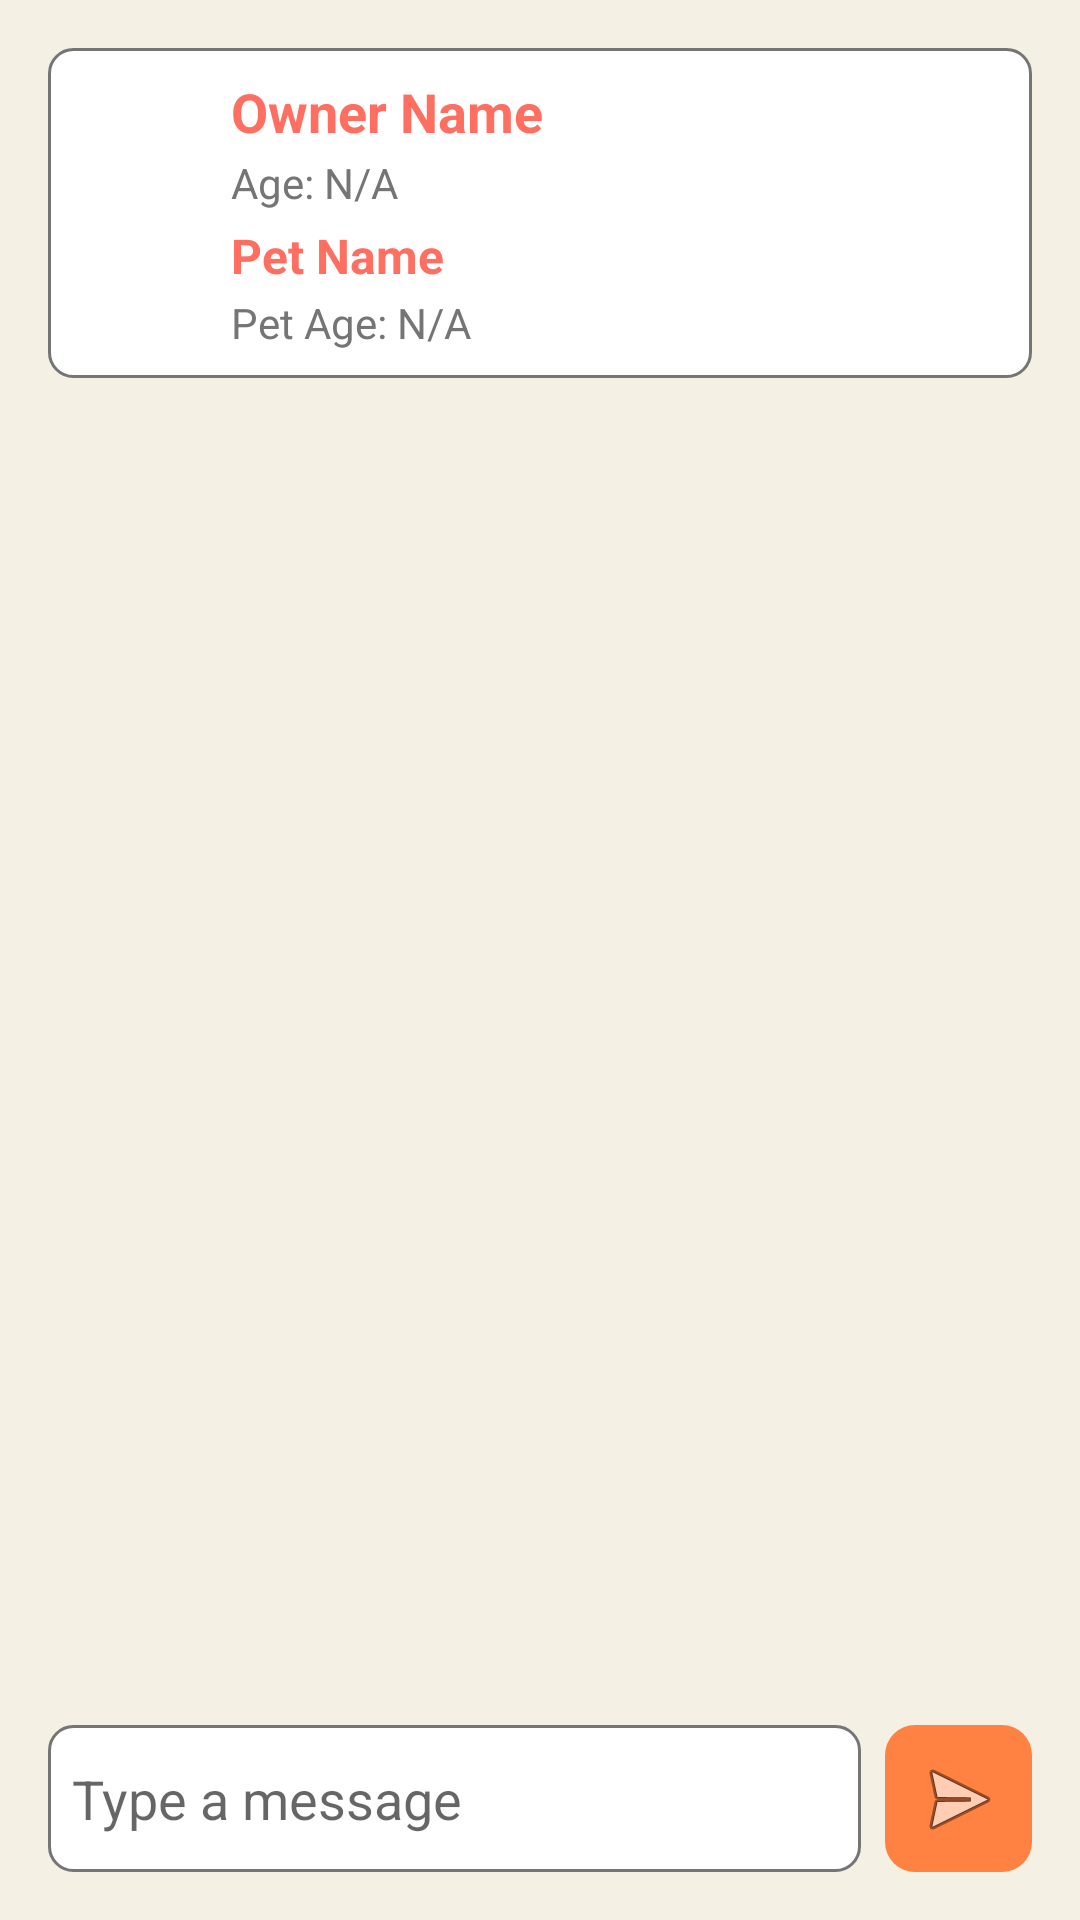

Where icons sit on this 1080 x 1920 app screen, as (x1, y1, x2, y2):
Send: (885, 1725, 1032, 1872)
